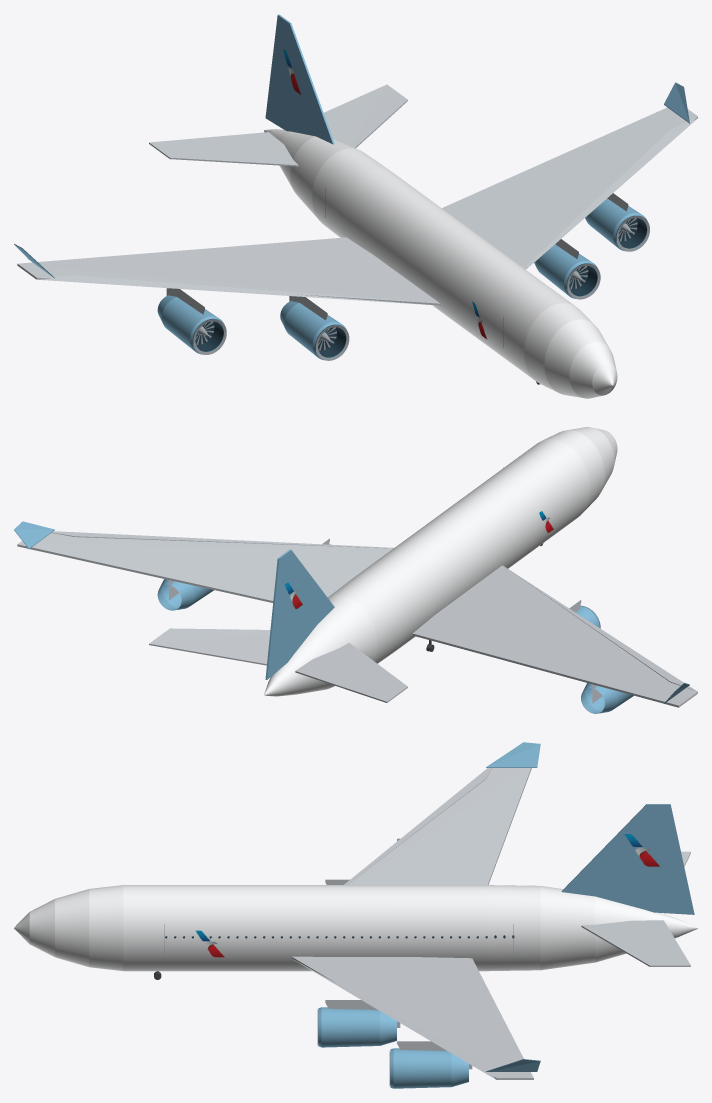
The model's file is a380-AAL-v4.gltf.
3 views of the same model, one above another, from view 1: azimuth 30°, elevation 25°; view 2: azimuth 150°, elevation 25°; view 3: azimuth 270°, elevation 25° (orthographic).
Parts seen in each view (by area): view 1: object 1; view 2: object 1; view 3: object 1.
Part boxes in pixels (x1,y1,x2,y2): object 1: [14, 14, 697, 398]; object 1: [14, 427, 697, 713]; object 1: [14, 742, 697, 1088].
Size of the model in its own units: 80 by 21.35 by 73.
Materials: 8 (1 with a texture image).
